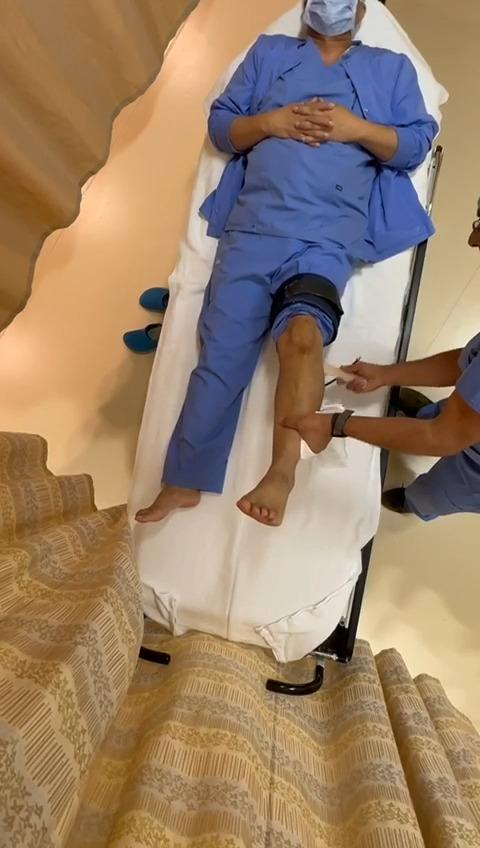bed: (111, 0, 448, 658)
patient: (139, 3, 436, 525)
prepstick: (326, 363, 355, 382)
tourniquet: (270, 272, 341, 343)
